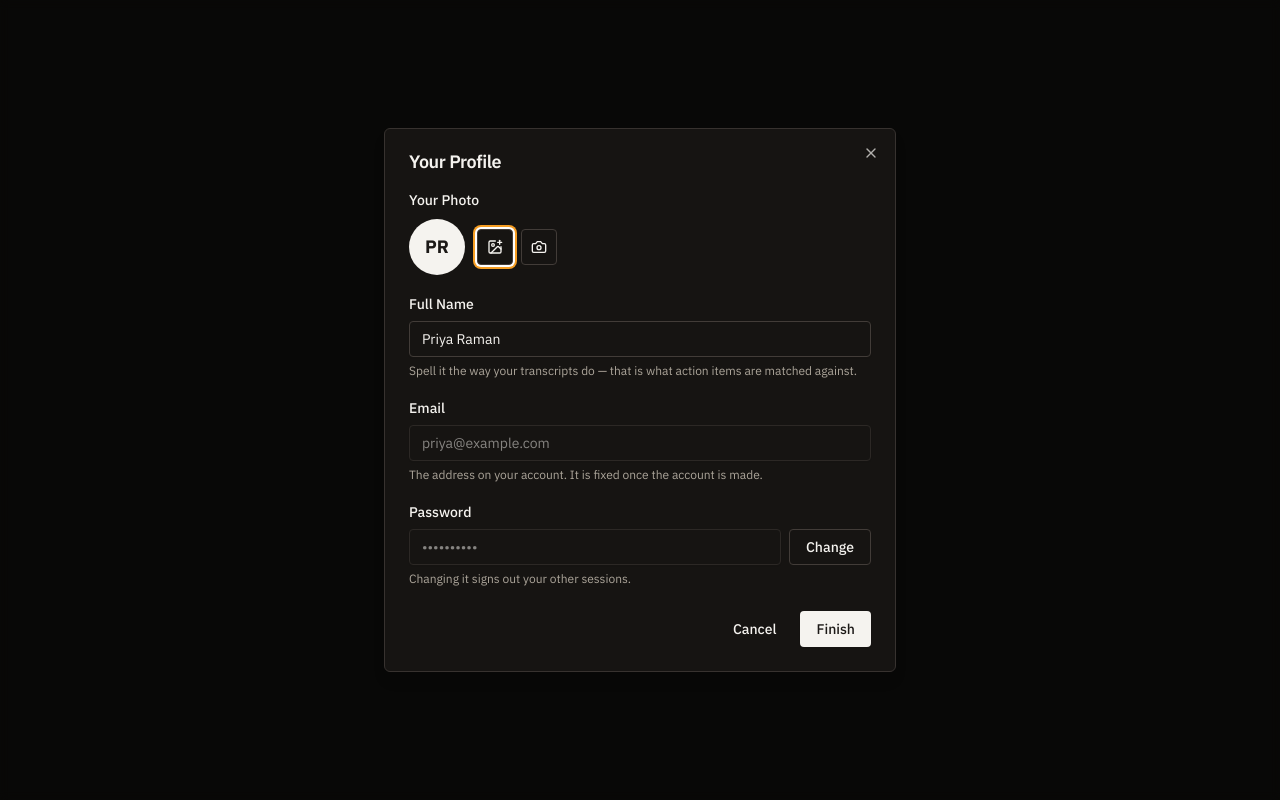
Scenario: the password › shows the provider's own refusal rather than a generic one
Click the button with aria-label "Change password".
click(830, 547)  # box x1=789 y1=529 x2=871 y2=565
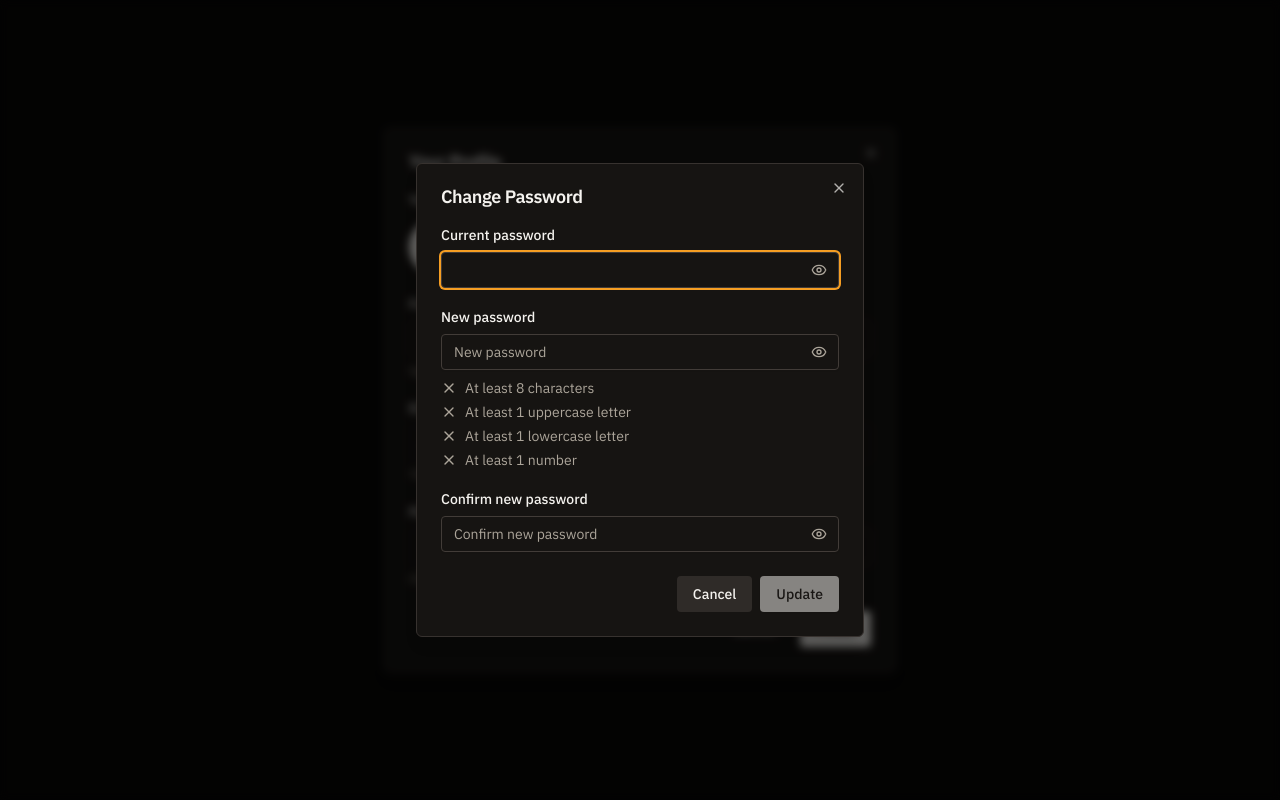
Type "OldPass1" into the password field labelled "Current password".
click(640, 270); type("OldPass1")  # box x1=441 y1=252 x2=839 y2=288
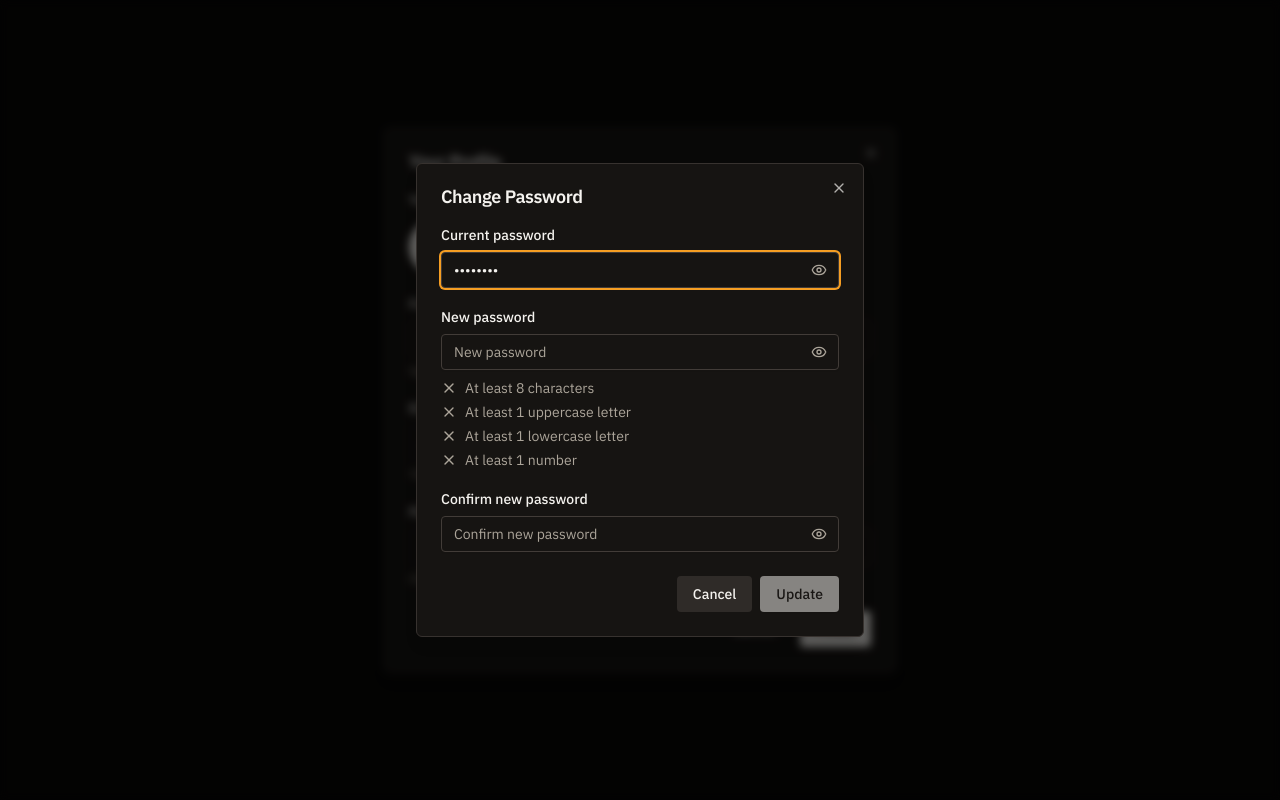
Type "NewPass99" into the password field labelled "New password".
click(640, 352); type("NewPass99")  # box x1=441 y1=334 x2=839 y2=370
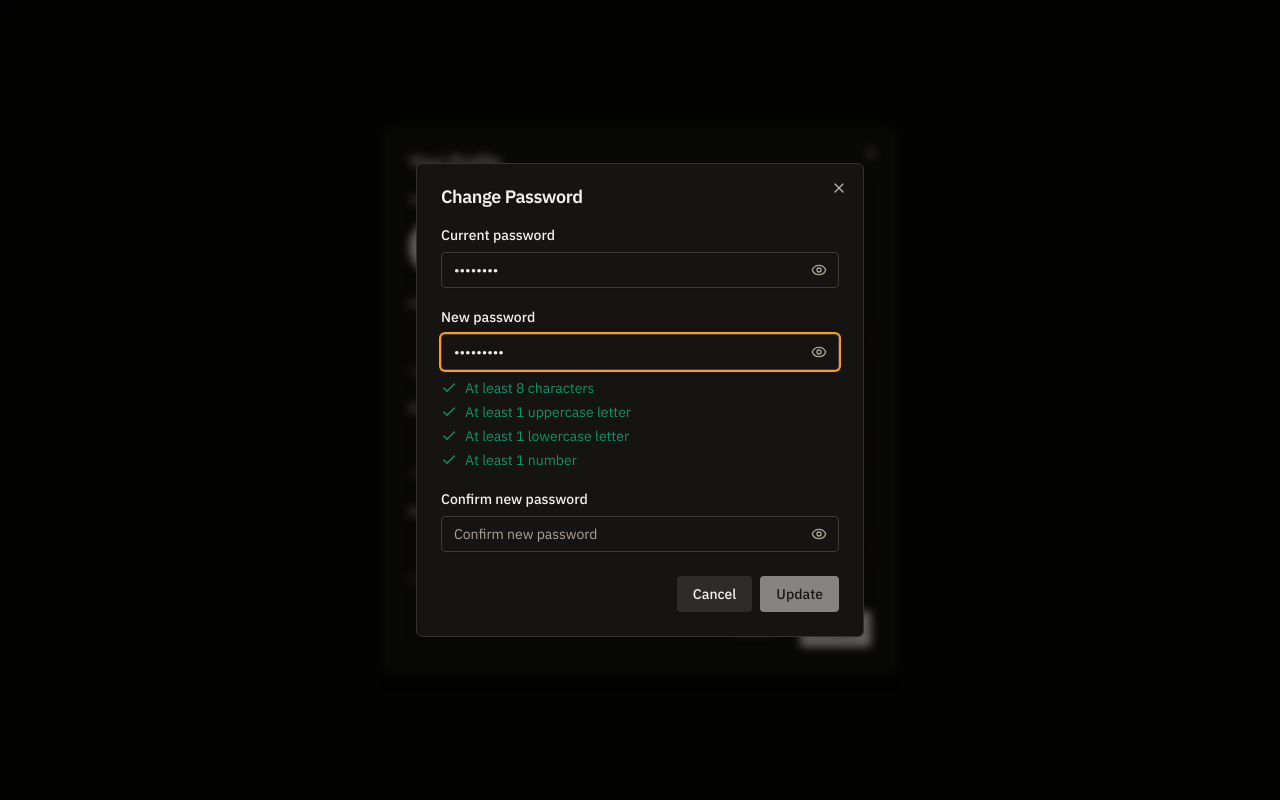
Type "NewPass99" into the password field labelled "Confirm new password".
click(640, 534); type("NewPass99")  # box x1=441 y1=516 x2=839 y2=552
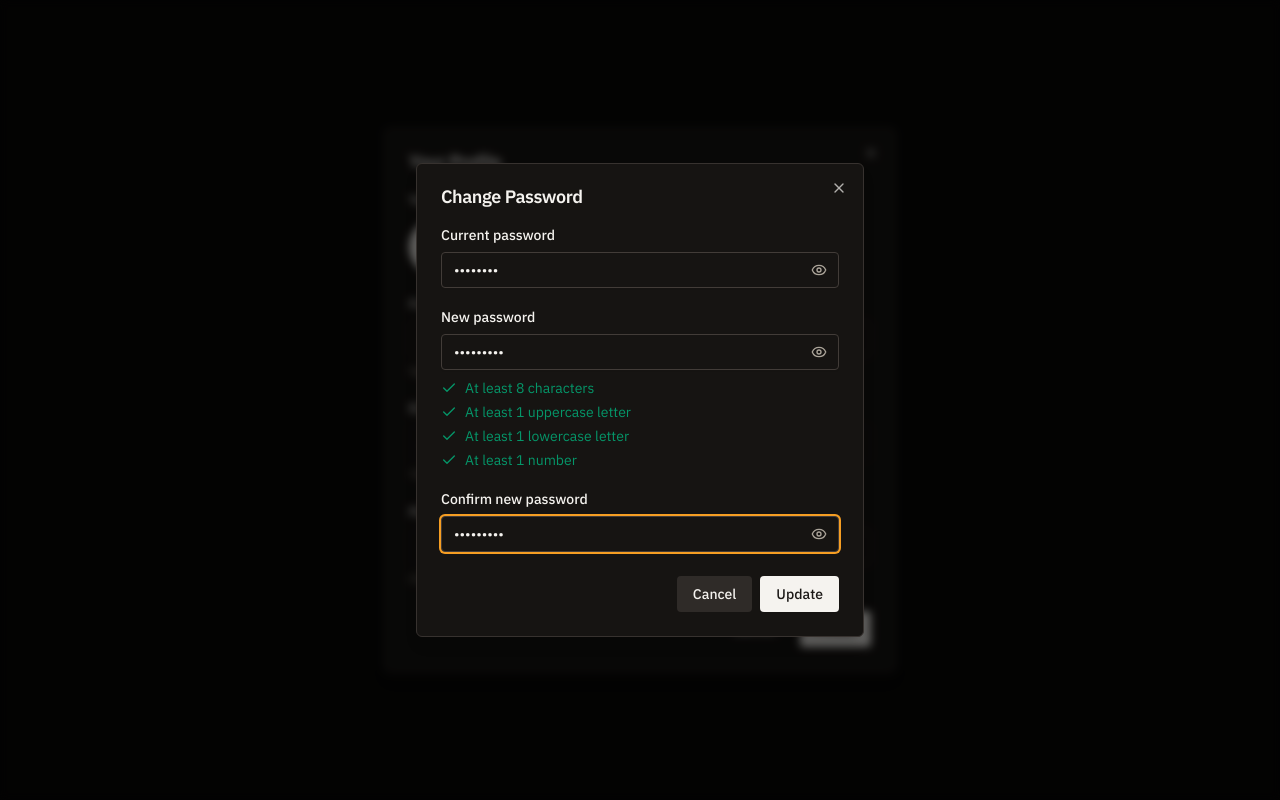
Click the button "Update".
click(800, 594)  # box x1=760 y1=576 x2=839 y2=612
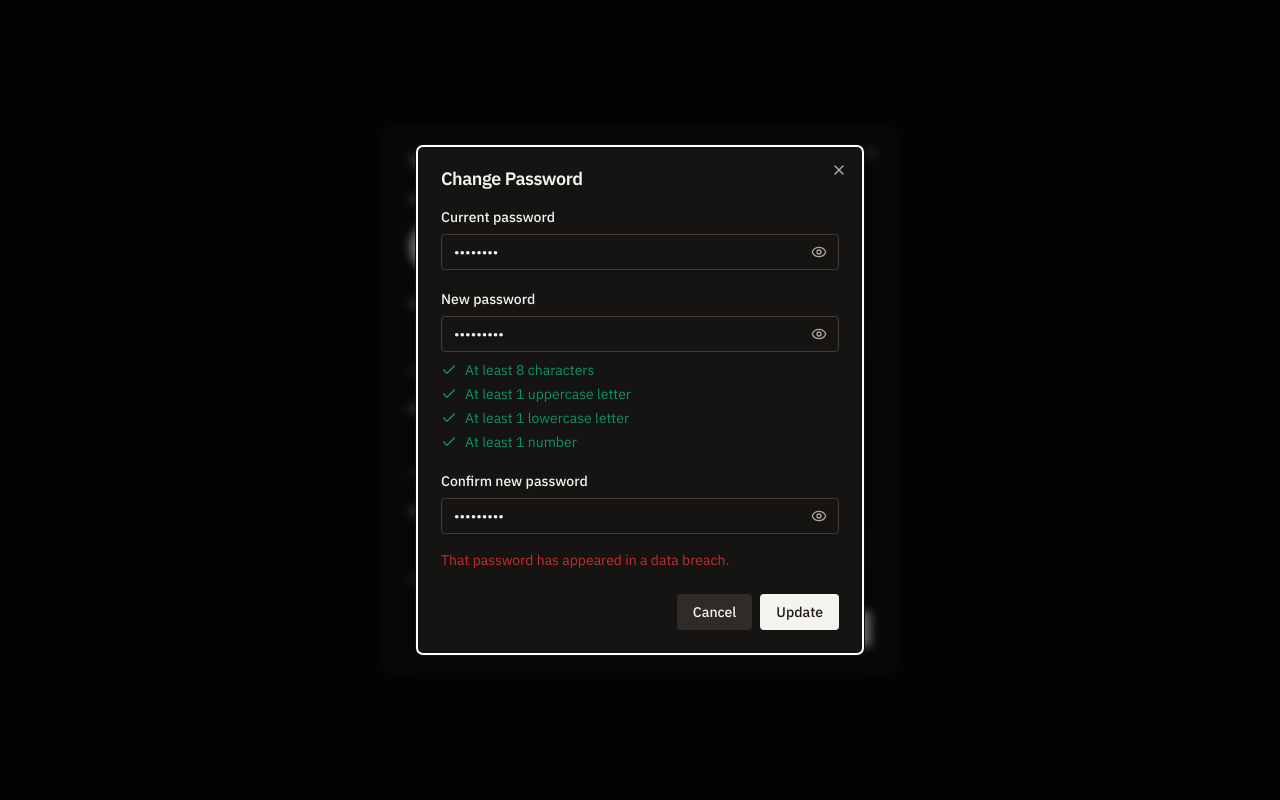
Expected: the heading "Change Password" is shown, x1=441 y1=167 x2=583 y2=190
Expected: the text "That password has appeared in a data breach." is shown, x1=441 y1=551 x2=729 y2=569
